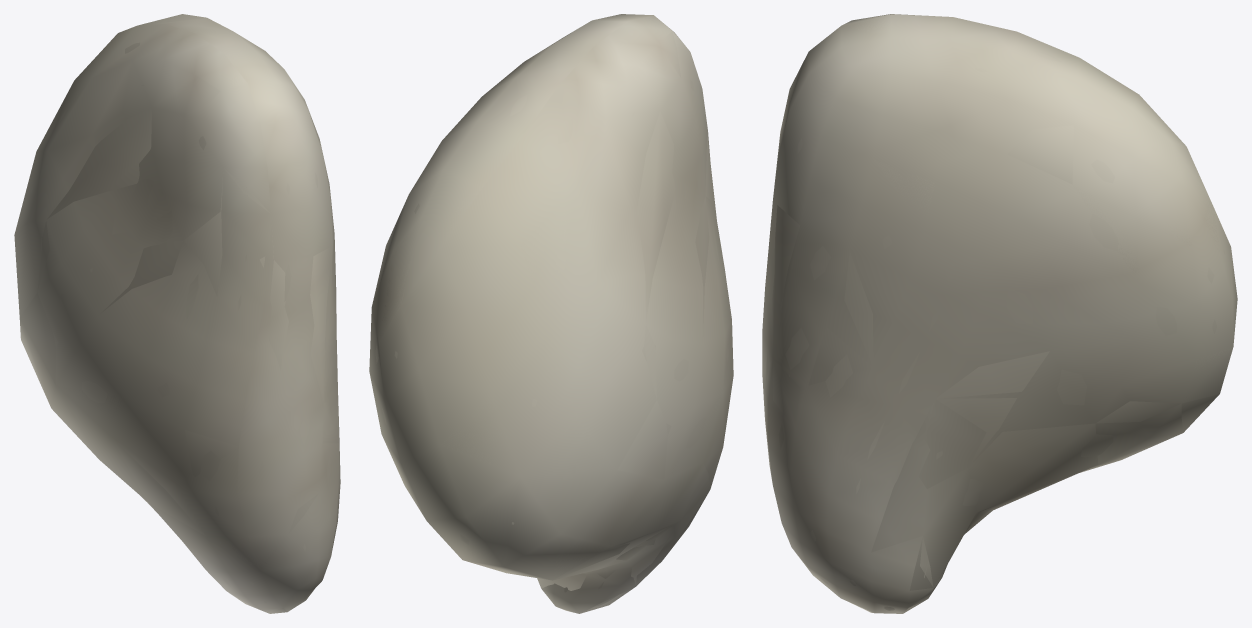
File: R tarsi tertium.fbx
3 views of the same model, side by side, from view 1: azimuth 30°, elevation 25°; view 2: azimuth 150°, elevation 25°; view 3: azimuth 270°, elevation 25° (orthographic). The views are drawn at different scales.
Visible parts, largest first — view 1: R tarsi tertium, R tarsi tertium low, R tarsi tertium high; view 2: R tarsi tertium, R tarsi tertium low, R tarsi tertium high; view 3: R tarsi tertium, R tarsi tertium low, R tarsi tertium high.
Part boxes in pixels (x1,y1,x2,y2): R tarsi tertium: (14,14,340,613); R tarsi tertium low: (20,53,338,613); R tarsi tertium high: (31,20,334,603); R tarsi tertium: (369,14,733,613); R tarsi tertium low: (373,15,721,613); R tarsi tertium high: (375,66,728,606); R tarsi tertium: (762,14,1237,613); R tarsi tertium low: (768,16,1229,613); R tarsi tertium high: (766,50,1225,610).
Size of the model in its own units: 0.2251 by 0.5343 by 0.399.
1 material, 1 textured.
